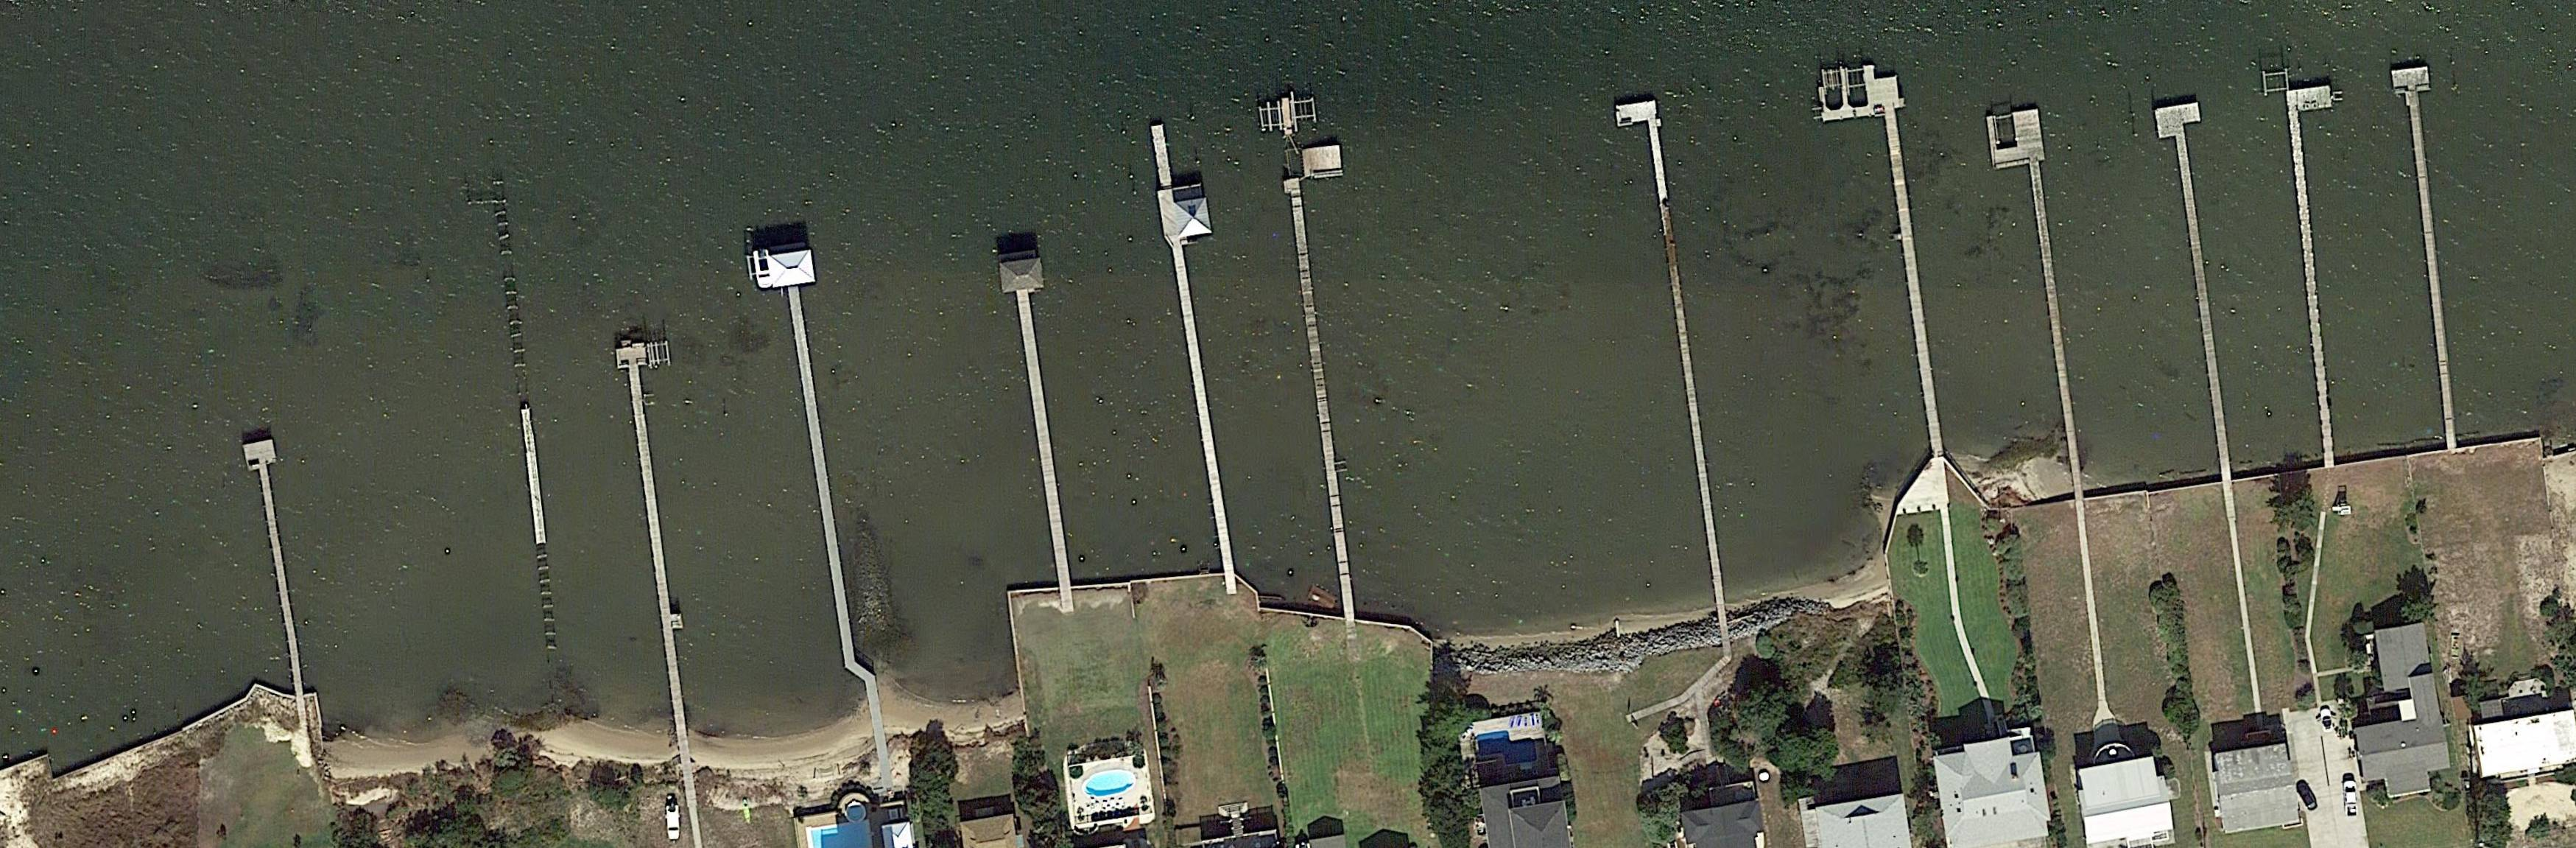harbor: (751, 242, 888, 758), (1612, 100, 1729, 616), (1278, 96, 1391, 620), (1816, 60, 1951, 455), (1147, 121, 1256, 572), (1985, 111, 2089, 487), (615, 336, 708, 740), (2155, 103, 2245, 469), (999, 250, 1082, 584), (2287, 87, 2361, 438), (2393, 67, 2467, 418), (242, 440, 314, 695)
ship: (664, 805, 681, 842)
small vehicle: (2294, 781, 2320, 814), (2343, 782, 2359, 819), (2319, 705, 2336, 737)
swimming pool: (1474, 726, 1539, 771), (1082, 766, 1140, 802), (811, 819, 876, 848)
